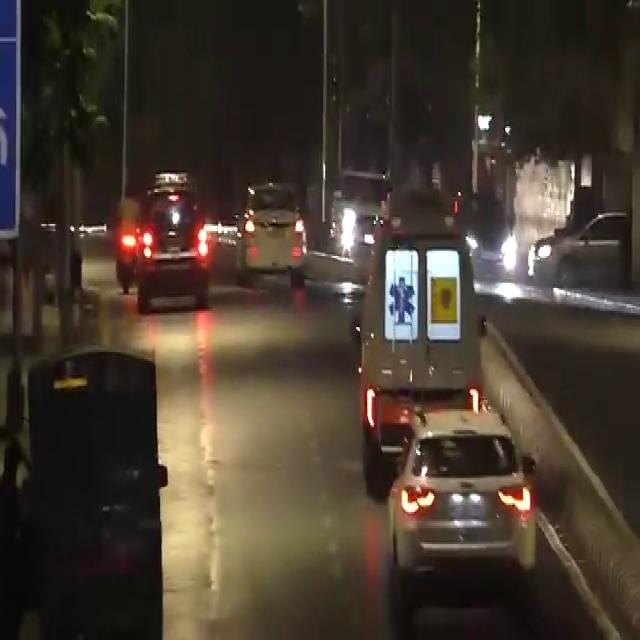ambulance: (361, 175, 463, 415)
